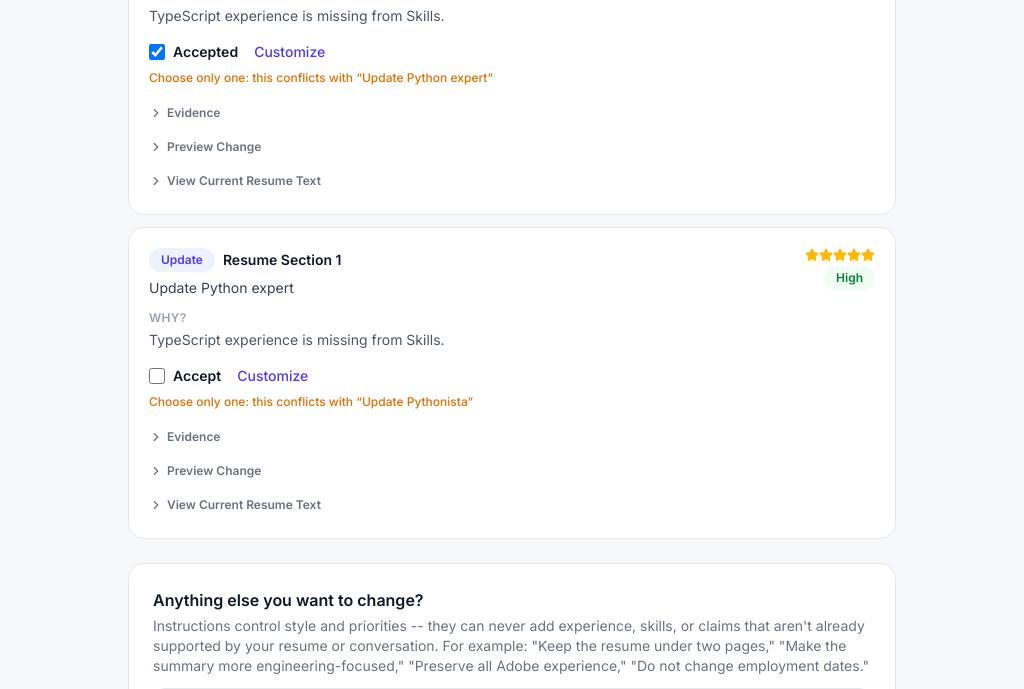
Test: TailoredResumePage: section grouping and mutually exclusive suggestions › auto-deselects a conflicting suggestion when the other one is selected
(page scrolled)
Check: the checkbox labelled "Accepted" is checked, box [149,44,165,60]
What coordinates should you click on to do the following:
click the checkbox labelled "Accept"
I would click on:
 (157, 376)
Its box is [149,368,165,384].
(page scrolled)
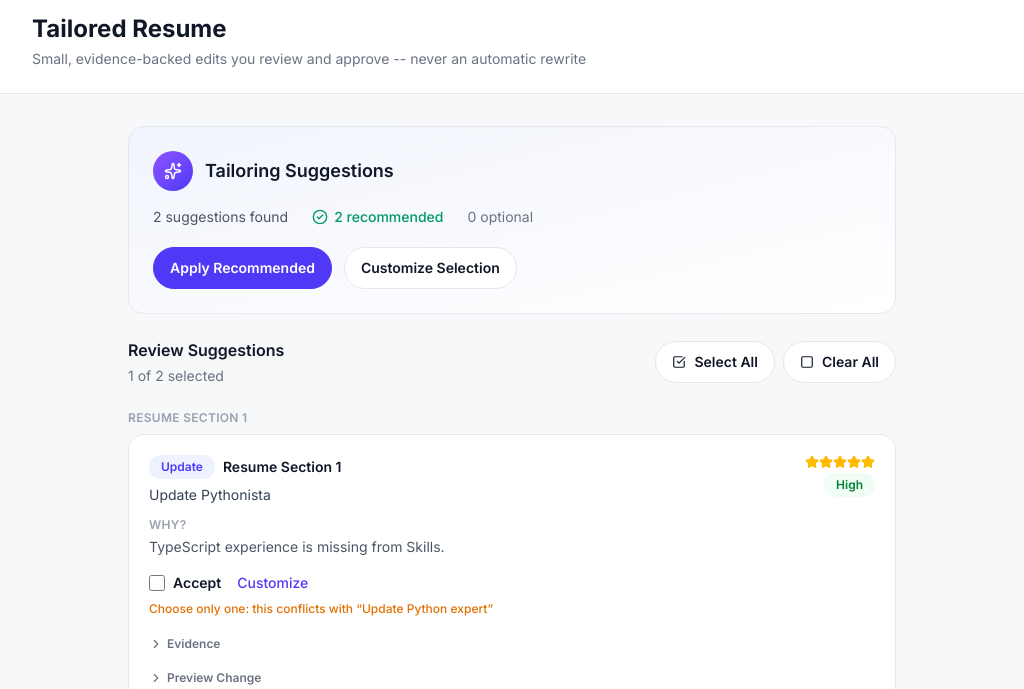
Check: the text "1 of 2 selected" is shown, box [128,367,224,384]
Check: the checkbox is not checked, box [149,575,165,591]
